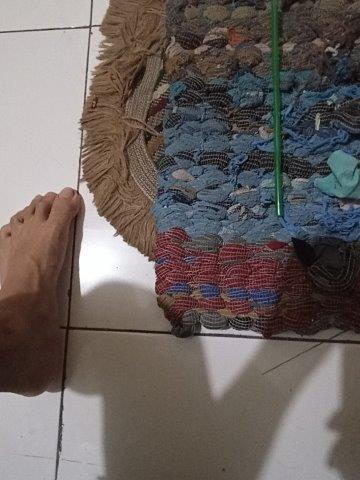sedotan: (272, 1, 283, 216)
